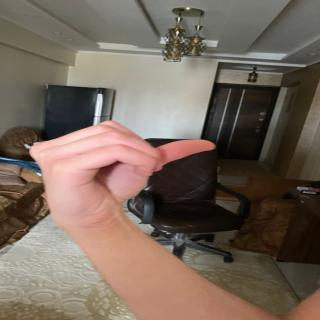WAW: (12, 111, 217, 211)
